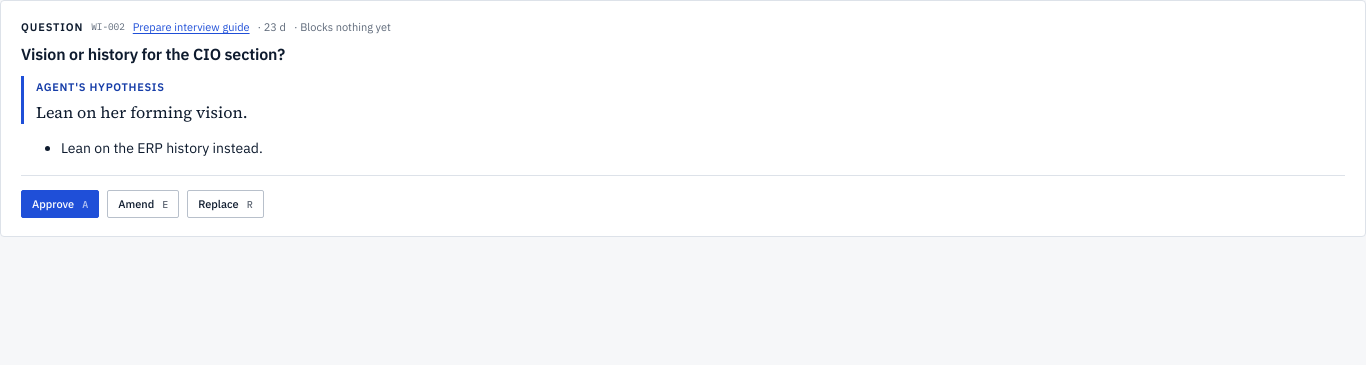
Test: QuestionCard › Replace opens an empty textarea
Click the button with test id "question-replace-open" at x=225, y=204, box top-left (187, 190), bottom-right (264, 218)
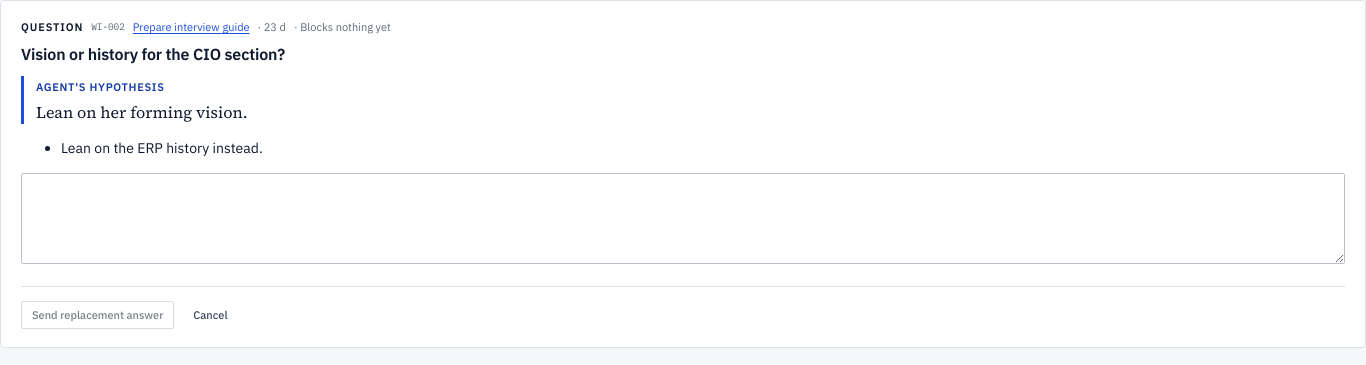
Check: the text box with test id "question-answer-text" is empty, box top-left (21, 174), bottom-right (1345, 264)
Check: the button with test id "question-answer-submit" is disabled, box top-left (21, 301), bottom-right (174, 329)
